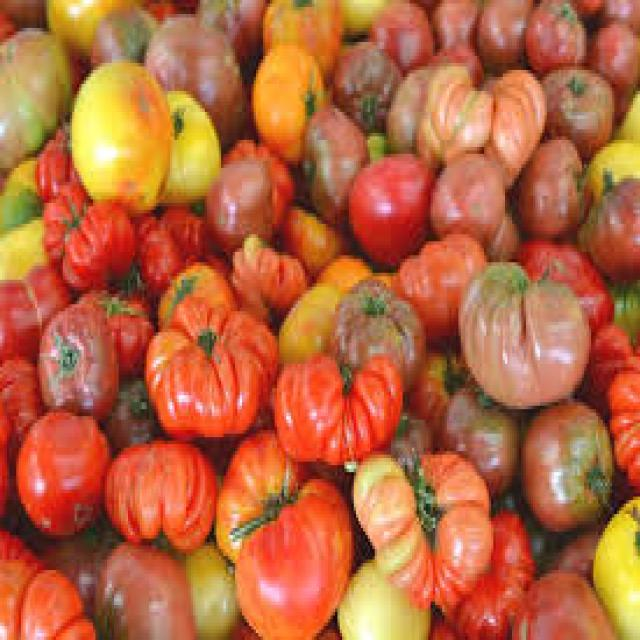organic waste: (346, 441, 488, 605), (226, 472, 351, 637), (459, 255, 591, 409), (142, 294, 279, 437), (67, 56, 170, 210), (270, 353, 403, 462), (100, 434, 217, 556), (142, 10, 244, 133), (212, 426, 300, 566), (516, 399, 610, 528), (440, 507, 533, 637), (12, 406, 107, 532), (344, 147, 440, 262), (0, 21, 72, 171), (91, 535, 195, 637), (326, 273, 423, 381), (438, 371, 516, 493), (512, 234, 612, 329), (398, 228, 486, 332), (249, 39, 319, 164), (486, 472, 568, 577), (35, 304, 116, 406), (426, 143, 505, 245), (414, 56, 491, 157), (335, 556, 431, 637), (300, 101, 366, 217), (202, 154, 277, 255), (156, 84, 219, 203), (509, 566, 616, 636), (0, 556, 91, 637), (221, 130, 296, 228), (74, 283, 154, 374), (58, 196, 135, 290), (486, 63, 544, 185), (28, 525, 112, 605), (226, 231, 305, 315), (594, 489, 638, 636), (517, 136, 584, 231), (260, 0, 339, 80), (535, 66, 610, 150), (44, 0, 144, 63), (0, 255, 67, 349), (386, 56, 452, 150), (407, 339, 477, 427), (330, 38, 400, 126), (580, 171, 638, 273), (182, 535, 240, 637), (584, 14, 638, 119), (98, 374, 160, 455), (282, 192, 346, 266), (124, 210, 180, 294), (602, 360, 638, 490), (156, 259, 235, 318), (193, 0, 263, 66), (363, 0, 430, 66), (88, 0, 155, 66), (521, 0, 586, 66), (586, 322, 638, 402), (158, 196, 219, 259), (40, 175, 89, 252), (540, 525, 603, 584), (475, 0, 526, 70), (582, 140, 638, 203), (0, 346, 35, 434), (0, 154, 42, 224), (228, 612, 338, 637), (35, 119, 72, 192), (600, 273, 638, 343), (0, 210, 42, 273), (431, 35, 482, 80), (314, 248, 370, 287), (386, 409, 428, 458), (428, 0, 472, 45), (607, 80, 638, 140), (0, 402, 12, 521), (335, 0, 381, 31), (135, 0, 195, 21), (0, 0, 44, 28), (424, 602, 458, 636), (600, 0, 638, 28), (0, 528, 37, 556), (568, 0, 603, 21), (368, 262, 391, 287)
